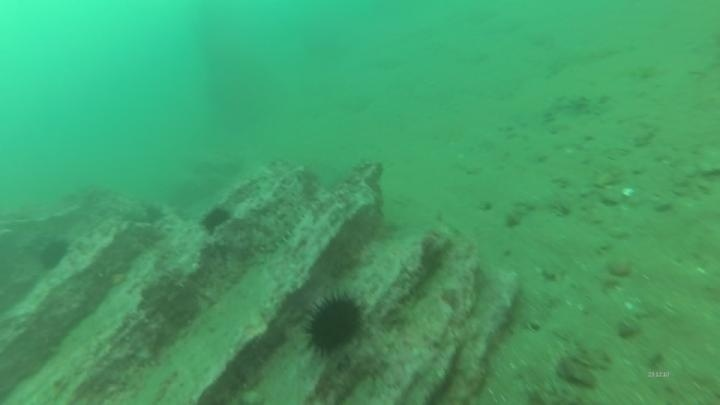echinus: (301, 289, 368, 359), (36, 236, 72, 273), (198, 203, 234, 235)
